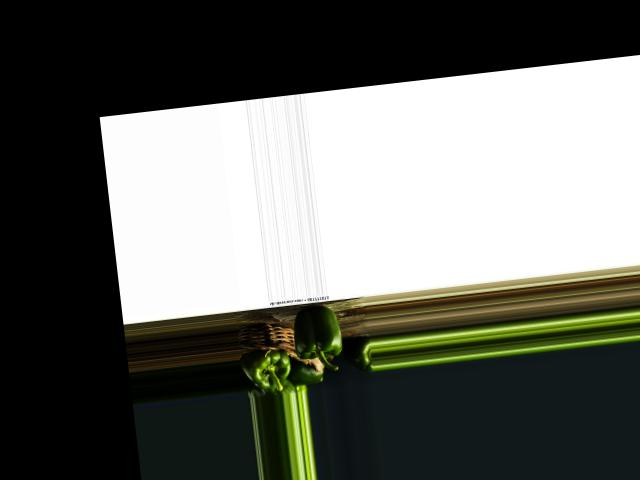bell_pepper: (351, 341, 374, 373)
